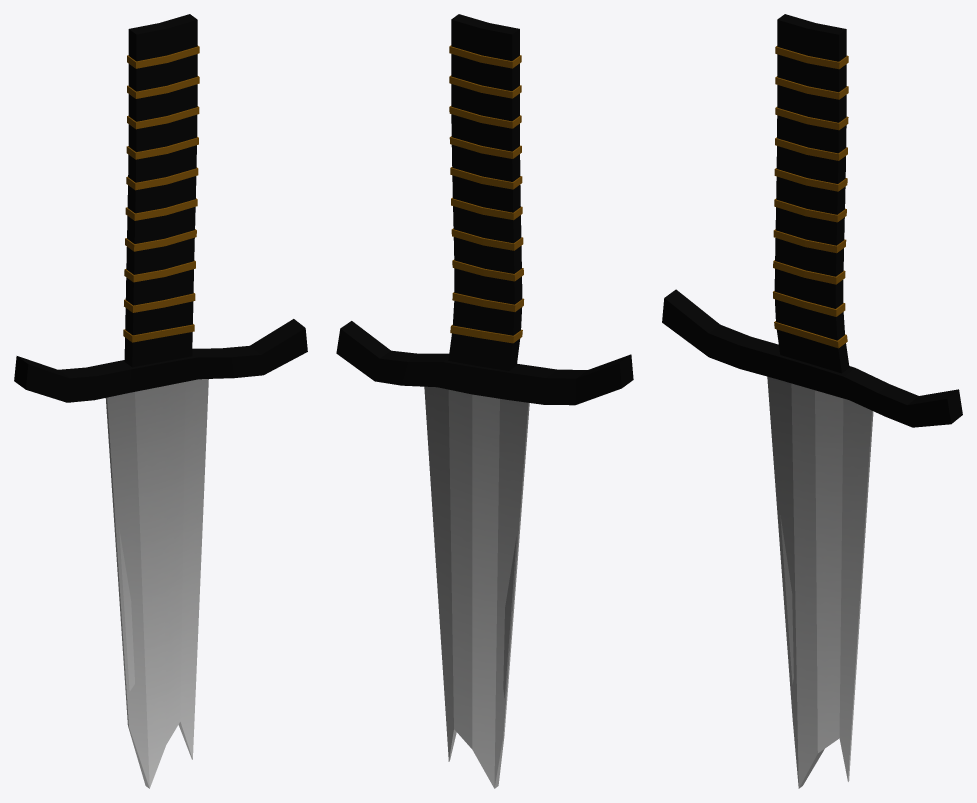
The model's file is Damaged_Sword_01.fbx.
3 views of the same model, side by side, from view 1: azimuth 30°, elevation 25°; view 2: azimuth 150°, elevation 25°; view 3: azimuth 330°, elevation 25° (orthographic).
Parts seen in each view (by area): view 1: Damaged_Sword_01; view 2: Damaged_Sword_01; view 3: Damaged_Sword_01.
Boxes of the visible parts, bbox=[...] form: Damaged_Sword_01: bbox=[14, 14, 307, 788]; Damaged_Sword_01: bbox=[336, 14, 633, 788]; Damaged_Sword_01: bbox=[662, 14, 962, 788].
Bounding box in the file's own units: 23.35 × 59.72 × 2.61.
